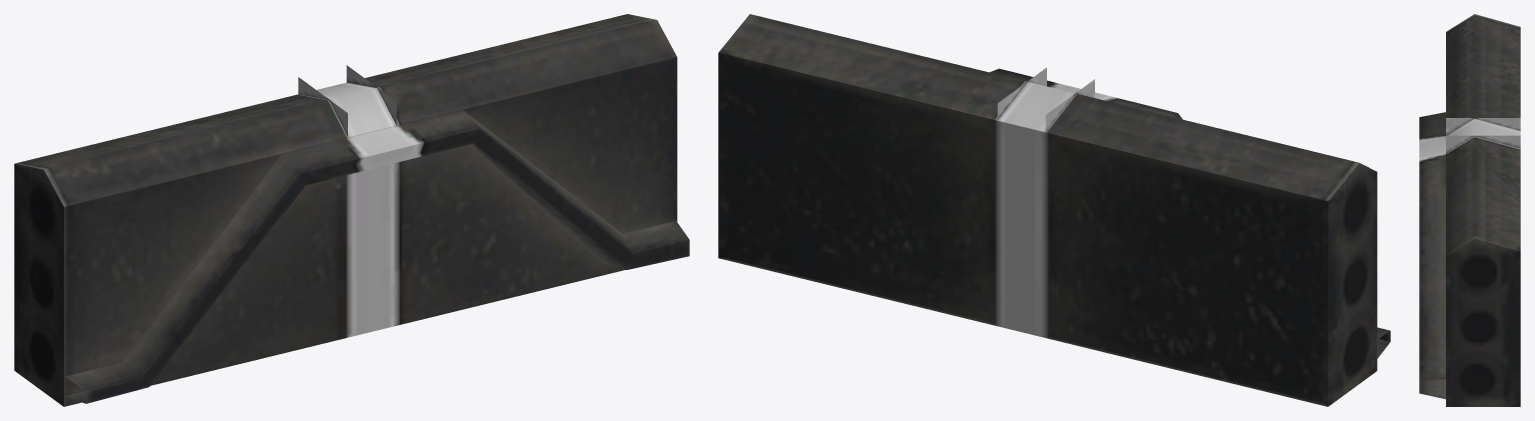
The model's file is segment_01_pair_1.glb.
3 views of the same model, side by side, from view 1: azimuth 30°, elevation 25°; view 2: azimuth 150°, elevation 25°; view 3: azimuth 270°, elevation 25° (orthographic). The views are drawn at different scales.
Parts seen in each view (by area): view 1: set_0_group_0; view 2: set_0_group_0; view 3: set_0_group_0.
Boxes of the visible parts, left/top/right/bottom form: set_0_group_0: left=14, top=14, right=689, bottom=406; set_0_group_0: left=718, top=14, right=1390, bottom=406; set_0_group_0: left=1419, top=14, right=1520, bottom=406.
Bounding box in the file's own units: 0.5053 × 0.1764 × 0.096.
Materials: 1 (1 with a texture image).
